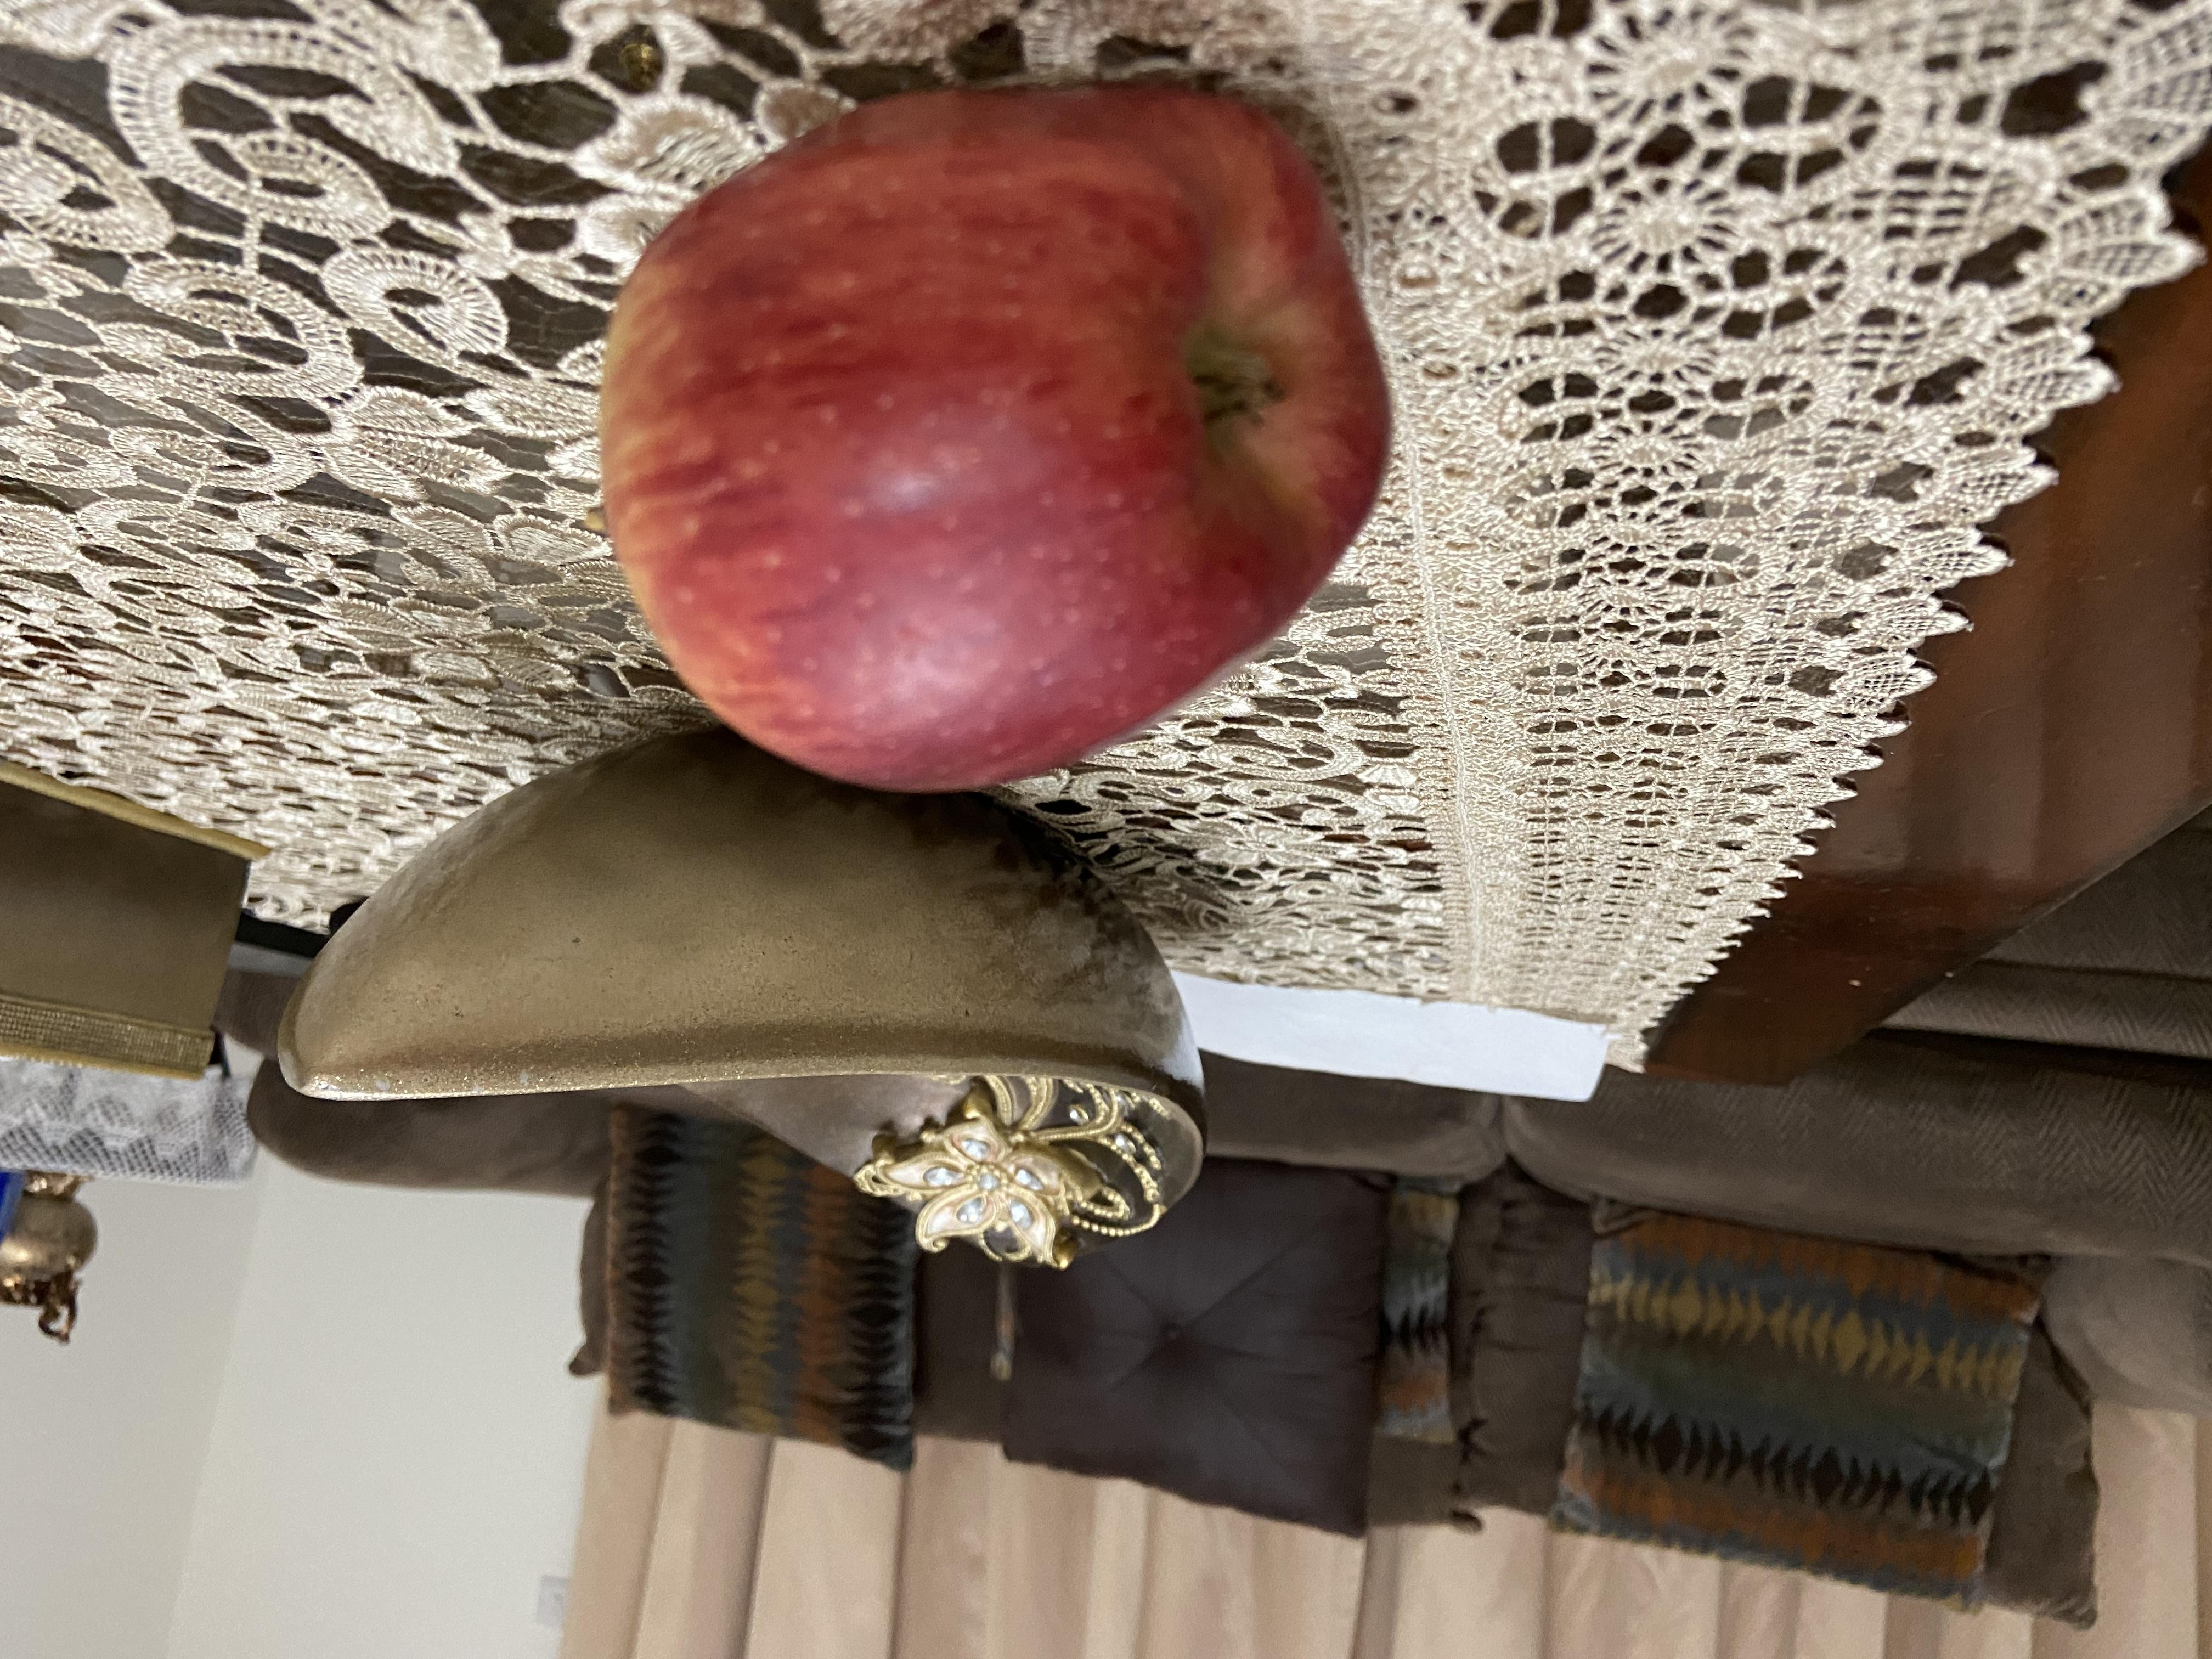Apple: (826, 856, 1625, 1591)
